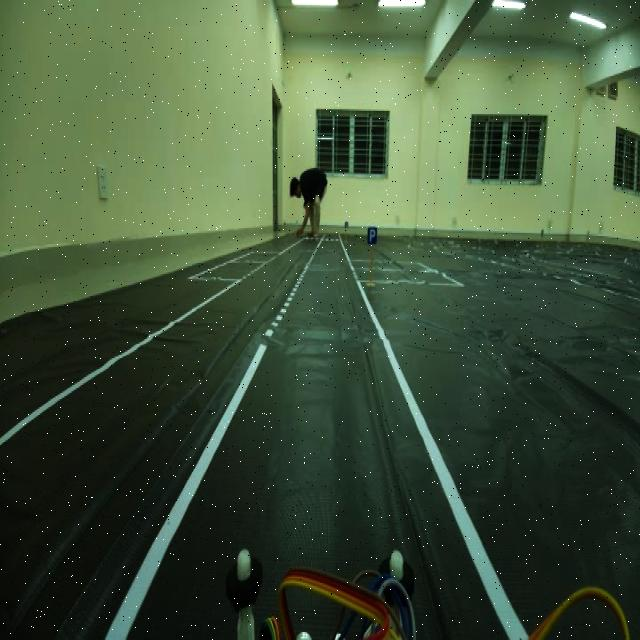parking: (364, 226, 380, 250)
